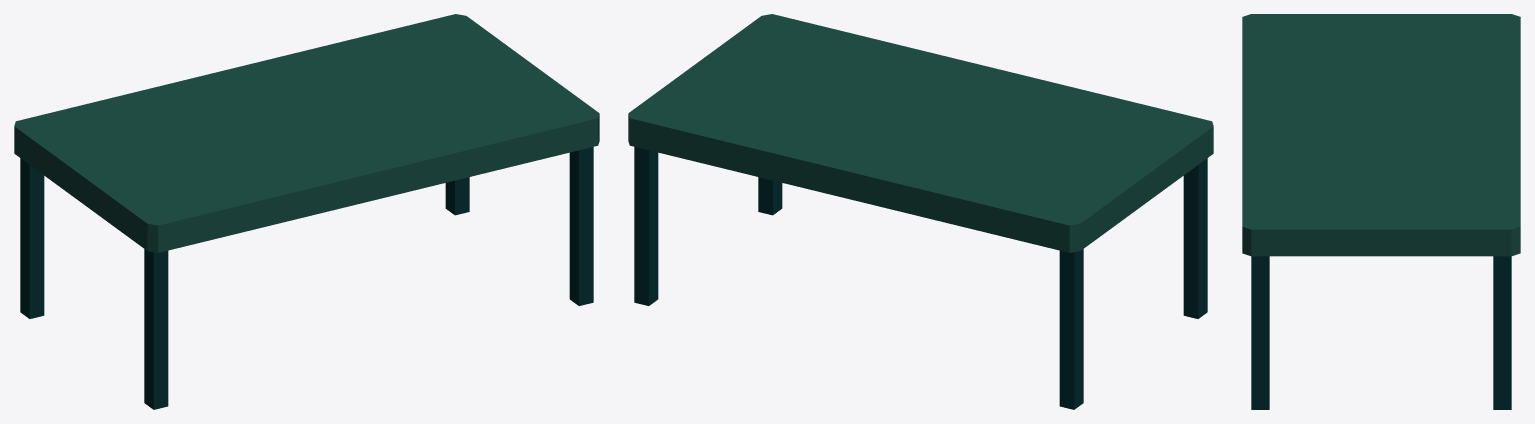
File: table.fbx
The picture shows the model from 3 angles, left to right: view 1: azimuth 30°, elevation 25°; view 2: azimuth 150°, elevation 25°; view 3: azimuth 270°, elevation 25°; orthographic projection. The views are drawn at different scales.
Parts seen in each view (by area): view 1: table_geo; view 2: table_geo; view 3: table_geo.
Boxes of the visible parts, x1,y1,x2,y2 form: table_geo: (14, 14, 599, 409); table_geo: (628, 14, 1213, 409); table_geo: (1242, 14, 1520, 409).
Bounding box in the file's own units: 611 × 243 × 334.
Materials: 1 (1 with a texture image).
